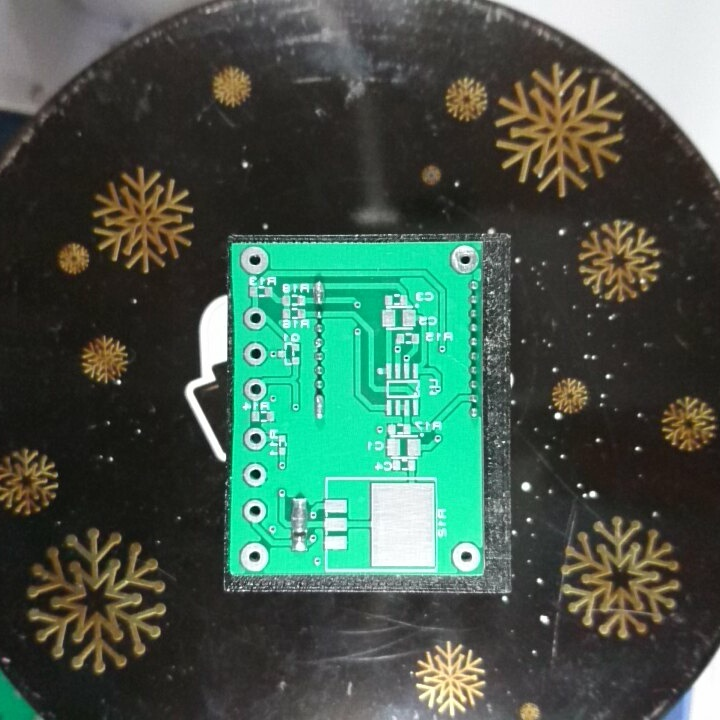F: (239, 245, 273, 278), (450, 540, 482, 574), (448, 243, 480, 277), (239, 541, 271, 573), (241, 496, 269, 525), (240, 463, 270, 489), (242, 305, 270, 332), (242, 376, 269, 403), (242, 426, 269, 452), (242, 341, 269, 366)
P: (289, 496, 308, 535), (312, 278, 327, 308), (312, 391, 326, 421)
